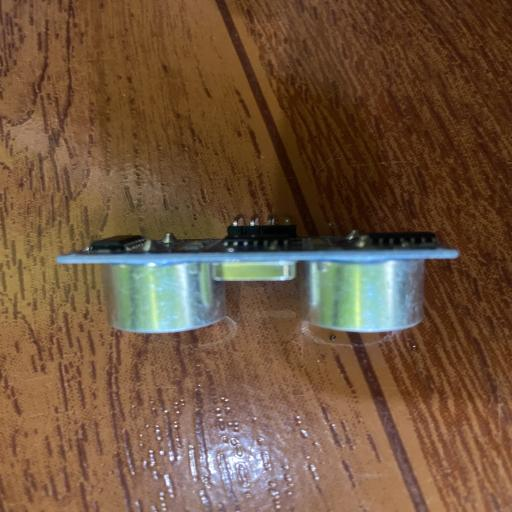Ultrasonic Sensor: (53, 210, 461, 334)
